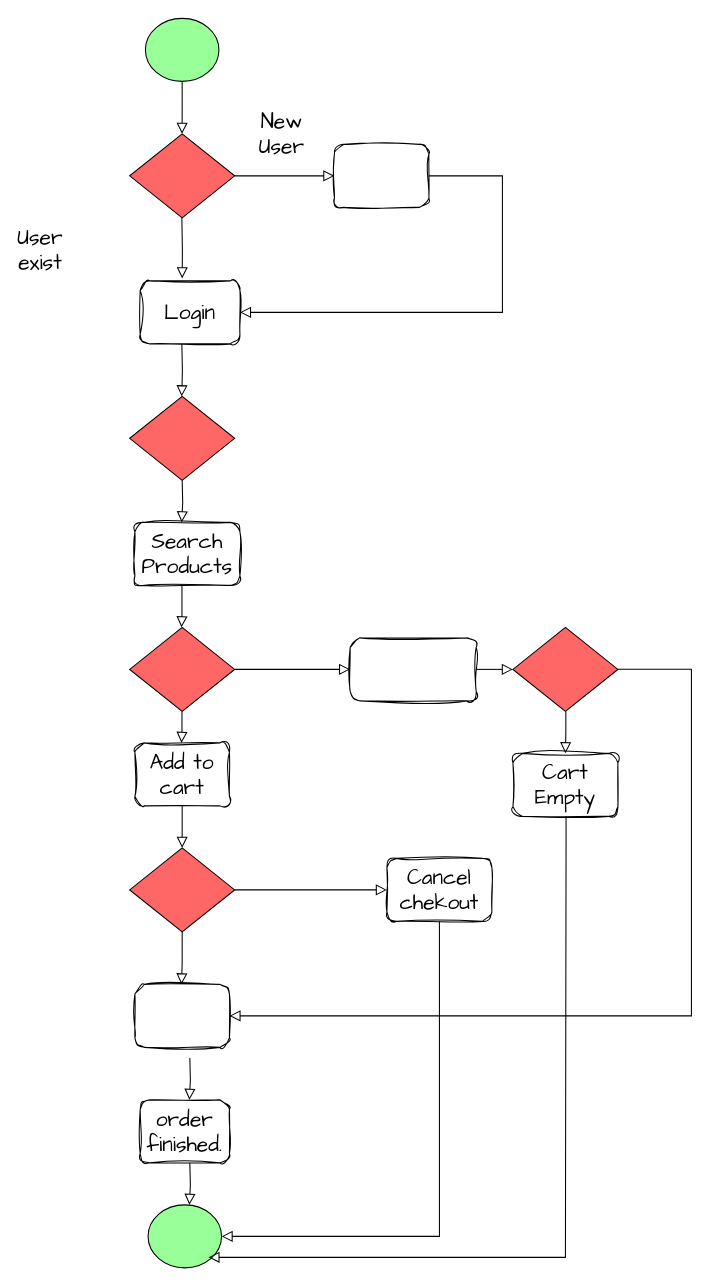
This 720x1286 diagram has some shape labels left out. Here are the shapes that lost their labels. From the top down, the centre of each, then its label:
At (x=381, y=175): "Register".
At (x=412, y=669): "See items already in cart".
At (x=181, y=1015): "Check out".
